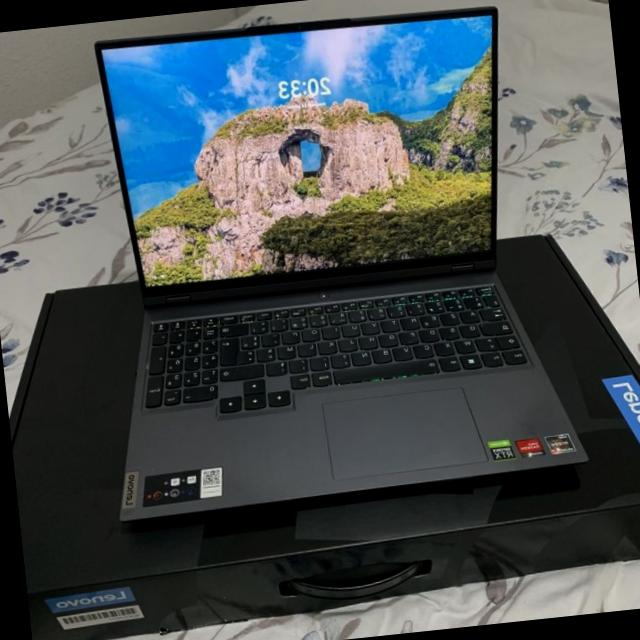laptop: (72, 0, 587, 528)
